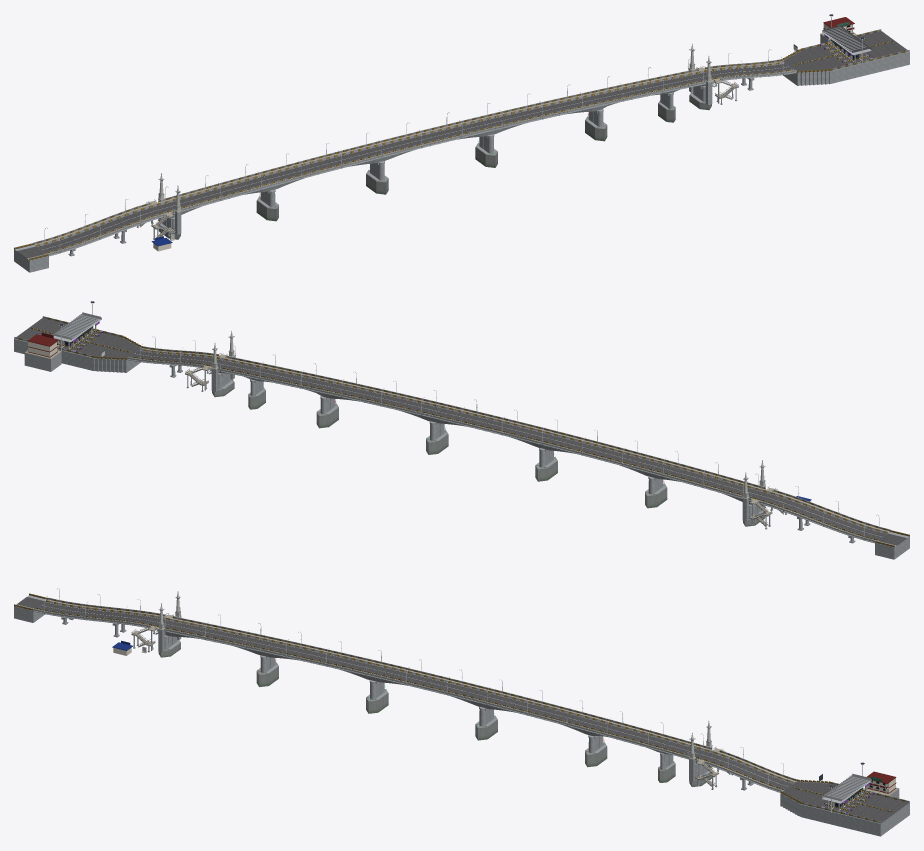
Rendered from khan_jahan_ali_bridge.glb.
3 views of the same model, one above another, from view 1: azimuth 30°, elevation 25°; view 2: azimuth 150°, elevation 25°; view 3: azimuth 330°, elevation 25° (orthographic).
Parts seen in each view (by area): view 1: KhanJahanAliBridge_Bridge_Deck_Asphalt_SV, KhanJahanAliBridge_River_Pier_Monolithic_Concrete, KhanJahanAliBridge_Panel_BlackYellow_Vertical_SV, KhanJahanAliBridge_Panel_CoolGrey_Precast_SV, KhanJahanAliBridge_Parapet_Outer_Weathered_Grey, KhanJahanAliBridge_Bridge_Footpath_Concrete_SV, KhanJahanAliBridge_PC_Box_Girder_Concrete, KhanJahanAliBridge_Cutwater_Fender_PileCap, KhanJahanAliBridge_Galvanized_Whip_Pole_Steel, KhanJahanAliBridge_Curb_Yellow_Black_Island, KhanJahanAliBridge_Toll_Sawtooth_Canopy_Grey, KhanJahanAliBridge_Road_Solid_White_Line; view 2: KhanJahanAliBridge_Bridge_Deck_Asphalt_SV, KhanJahanAliBridge_River_Pier_Monolithic_Concrete, KhanJahanAliBridge_Panel_BlackYellow_Vertical_SV, KhanJahanAliBridge_Panel_CoolGrey_Precast_SV, KhanJahanAliBridge_Parapet_Outer_Weathered_Grey, KhanJahanAliBridge_Bridge_Footpath_Concrete_SV, KhanJahanAliBridge_Cutwater_Fender_PileCap, KhanJahanAliBridge_PC_Box_Girder_Concrete, KhanJahanAliBridge_Galvanized_Whip_Pole_Steel, KhanJahanAliBridge_Curb_Yellow_Black_Island, KhanJahanAliBridge_Toll_Sawtooth_Canopy_Grey, KhanJahanAliBridge_Road_Solid_White_Line; view 3: KhanJahanAliBridge_Bridge_Deck_Asphalt_SV, KhanJahanAliBridge_River_Pier_Monolithic_Concrete, KhanJahanAliBridge_Panel_BlackYellow_Vertical_SV, KhanJahanAliBridge_Panel_CoolGrey_Precast_SV, KhanJahanAliBridge_Parapet_Outer_Weathered_Grey, KhanJahanAliBridge_Bridge_Footpath_Concrete_SV, KhanJahanAliBridge_PC_Box_Girder_Concrete, KhanJahanAliBridge_Cutwater_Fender_PileCap, KhanJahanAliBridge_Galvanized_Whip_Pole_Steel, KhanJahanAliBridge_Curb_Yellow_Black_Island, KhanJahanAliBridge_Toll_Sawtooth_Canopy_Grey, KhanJahanAliBridge_Road_Solid_White_Line (+1 smaller).
Part boxes in pixels (x1,y1,x2,y2): KhanJahanAliBridge_Bridge_Deck_Asphalt_SV: [17, 31, 907, 258]; KhanJahanAliBridge_River_Pier_Monolithic_Concrete: [14, 30, 909, 272]; KhanJahanAliBridge_Panel_BlackYellow_Vertical_SV: [14, 30, 905, 260]; KhanJahanAliBridge_Panel_CoolGrey_Precast_SV: [34, 29, 909, 253]; KhanJahanAliBridge_Parapet_Outer_Weathered_Grey: [34, 59, 796, 255]; KhanJahanAliBridge_Bridge_Footpath_Concrete_SV: [33, 32, 856, 254]; KhanJahanAliBridge_PC_Box_Girder_Concrete: [48, 72, 796, 256]; KhanJahanAliBridge_Cutwater_Fender_PileCap: [158, 92, 711, 239]; KhanJahanAliBridge_Galvanized_Whip_Pole_Steel: [33, 16, 886, 254]; KhanJahanAliBridge_Curb_Yellow_Black_Island: [46, 40, 892, 253]; KhanJahanAliBridge_Toll_Sawtooth_Canopy_Grey: [822, 25, 871, 55]; KhanJahanAliBridge_Road_Solid_White_Line: [37, 44, 861, 249]; KhanJahanAliBridge_Bridge_Deck_Asphalt_SV: [16, 318, 906, 545]; KhanJahanAliBridge_River_Pier_Monolithic_Concrete: [14, 320, 909, 559]; KhanJahanAliBridge_Panel_BlackYellow_Vertical_SV: [18, 317, 909, 547]; KhanJahanAliBridge_Panel_CoolGrey_Precast_SV: [14, 316, 889, 540]; KhanJahanAliBridge_Parapet_Outer_Weathered_Grey: [127, 346, 889, 542]; KhanJahanAliBridge_Bridge_Footpath_Concrete_SV: [25, 348, 890, 541]; KhanJahanAliBridge_Cutwater_Fender_PileCap: [212, 379, 765, 526]; KhanJahanAliBridge_PC_Box_Girder_Concrete: [127, 359, 875, 543]; KhanJahanAliBridge_Galvanized_Whip_Pole_Steel: [37, 303, 890, 541]; KhanJahanAliBridge_Curb_Yellow_Black_Island: [31, 327, 877, 540]; KhanJahanAliBridge_Toll_Sawtooth_Canopy_Grey: [52, 312, 101, 342]; KhanJahanAliBridge_Road_Solid_White_Line: [62, 331, 886, 536]; KhanJahanAliBridge_Bridge_Deck_Asphalt_SV: [17, 597, 908, 822]; KhanJahanAliBridge_River_Pier_Monolithic_Concrete: [14, 595, 909, 836]; KhanJahanAliBridge_Panel_BlackYellow_Vertical_SV: [14, 593, 905, 822]; KhanJahanAliBridge_Panel_CoolGrey_Precast_SV: [34, 596, 909, 823]; KhanJahanAliBridge_Parapet_Outer_Weathered_Grey: [33, 598, 796, 791]; KhanJahanAliBridge_Bridge_Footpath_Concrete_SV: [39, 599, 898, 795]; KhanJahanAliBridge_PC_Box_Girder_Concrete: [33, 610, 780, 792]; KhanJahanAliBridge_Cutwater_Fender_PileCap: [158, 640, 711, 786]; KhanJahanAliBridge_Galvanized_Whip_Pole_Steel: [33, 588, 889, 812]; KhanJahanAliBridge_Curb_Yellow_Black_Island: [36, 608, 892, 812]; KhanJahanAliBridge_Toll_Sawtooth_Canopy_Grey: [822, 773, 871, 803]; KhanJahanAliBridge_Road_Solid_White_Line: [42, 602, 862, 809].
Bounding box in the file's own units: 543 × 35.8 × 52.85.
39 materials, 27 textured.
